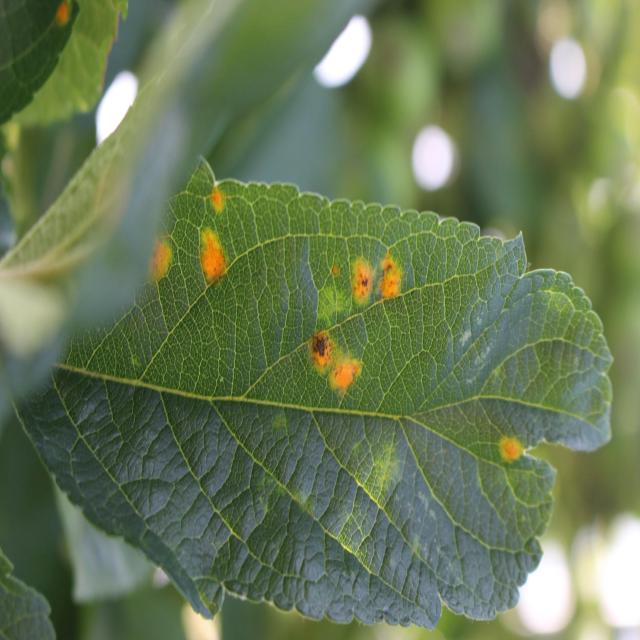Rust: (302, 325, 368, 398), (200, 220, 231, 298), (143, 232, 186, 282), (346, 251, 378, 315), (379, 248, 411, 308), (490, 424, 530, 472), (198, 180, 230, 213), (322, 251, 344, 285)
